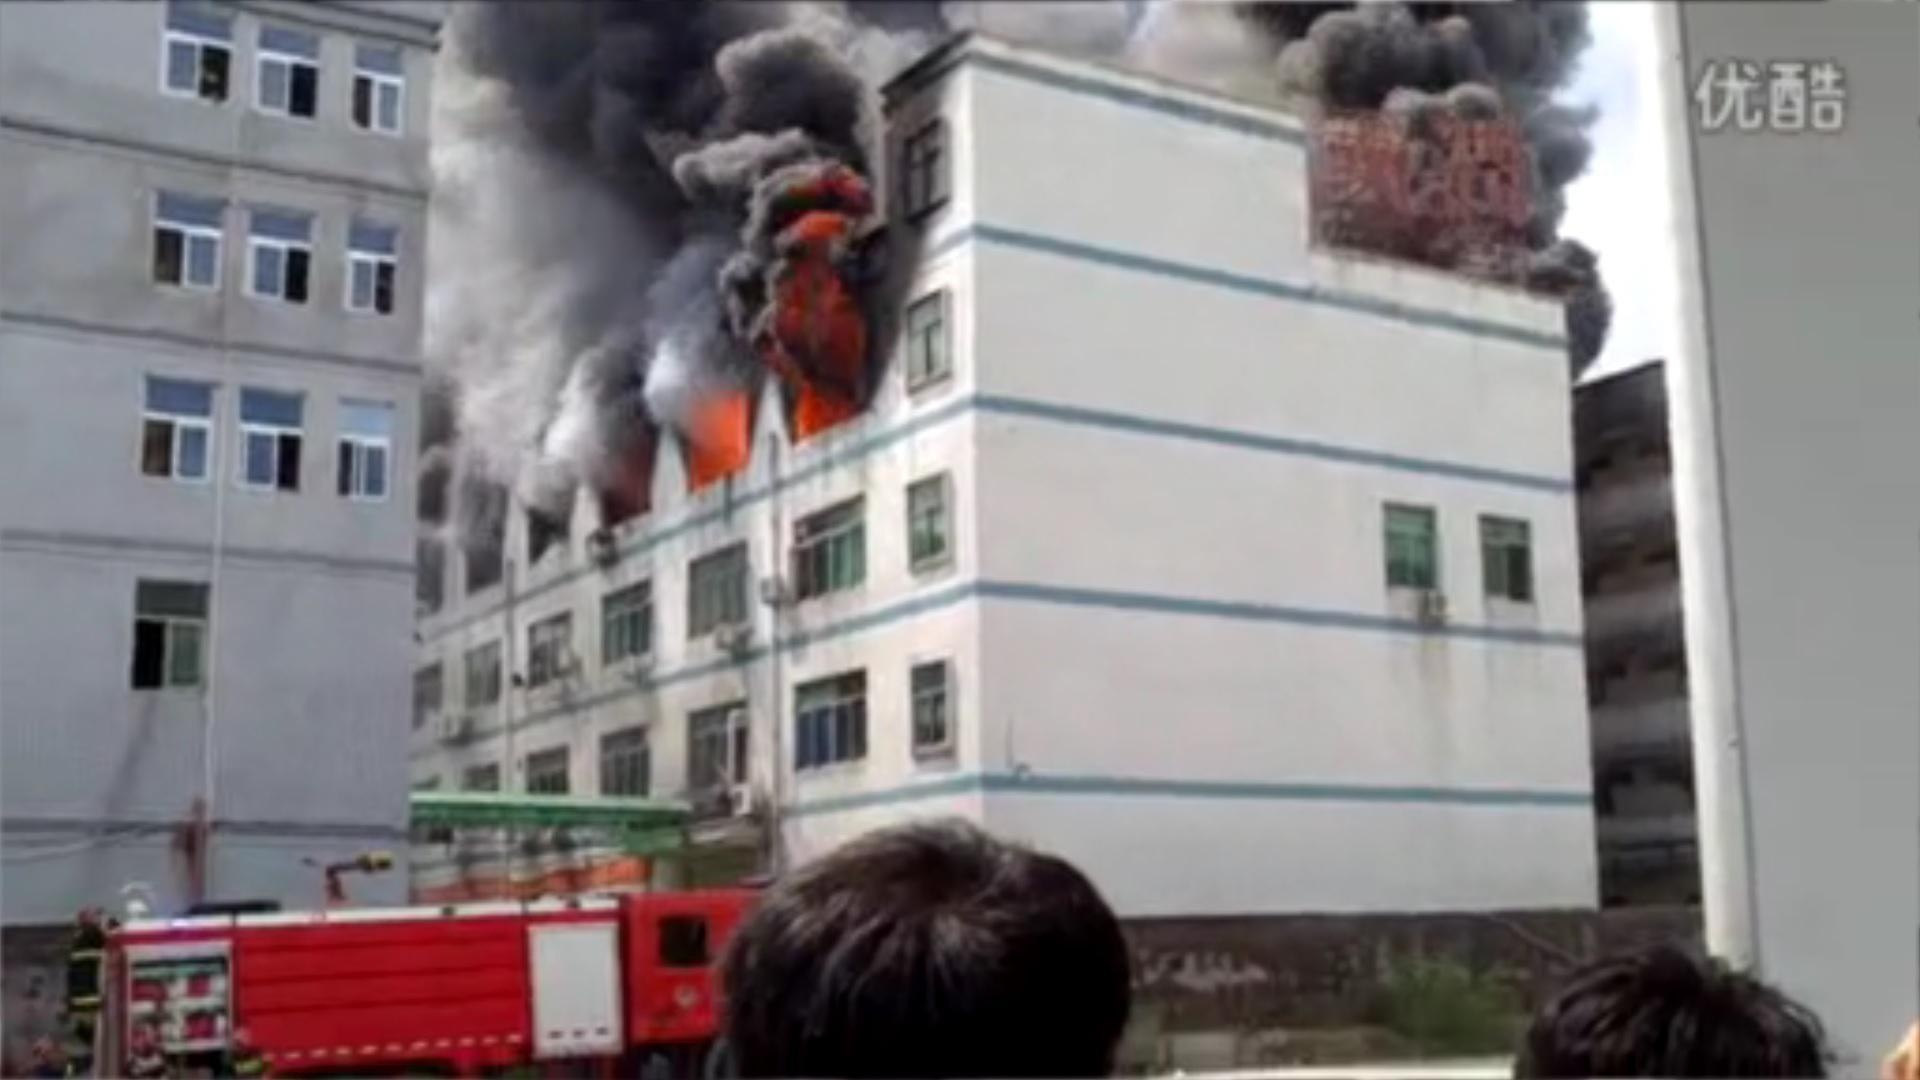fire: (675, 357, 851, 483)
